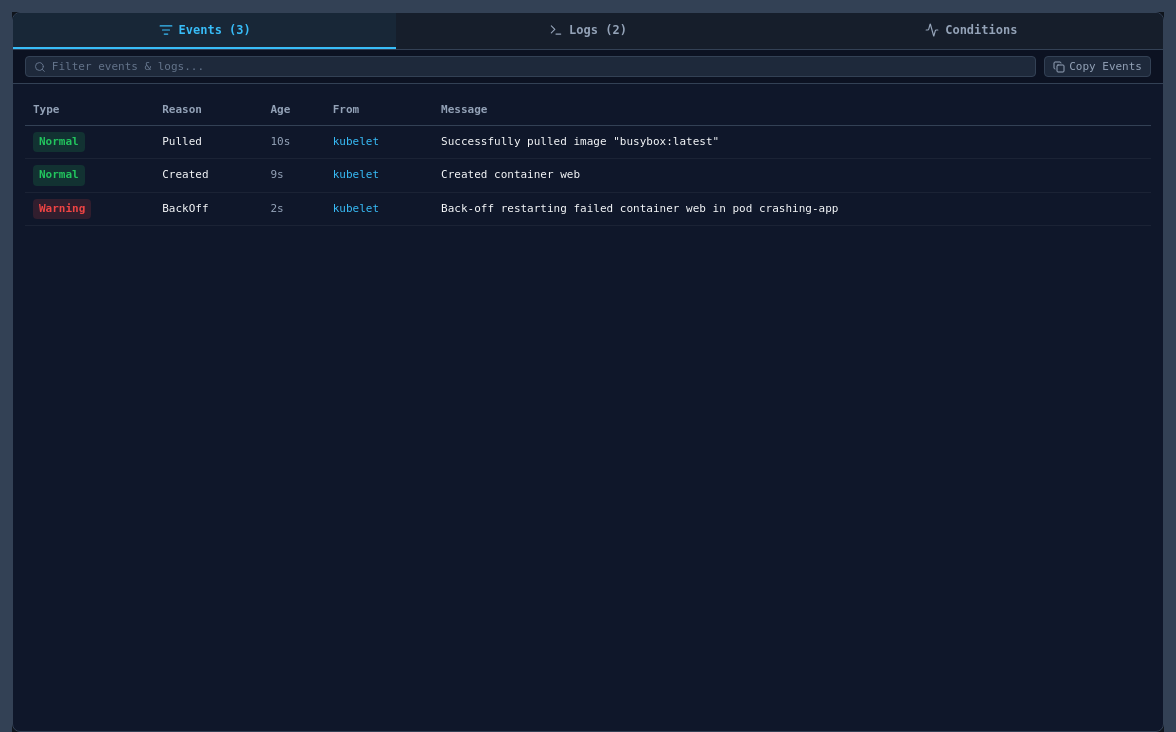
Test: DiagnosticLogPanel › allows copying all diagnostic events and clears with search icon
Click the button with test id "copy-all-events-btn". click: (1098, 66)
box: [1044, 56, 1151, 77]
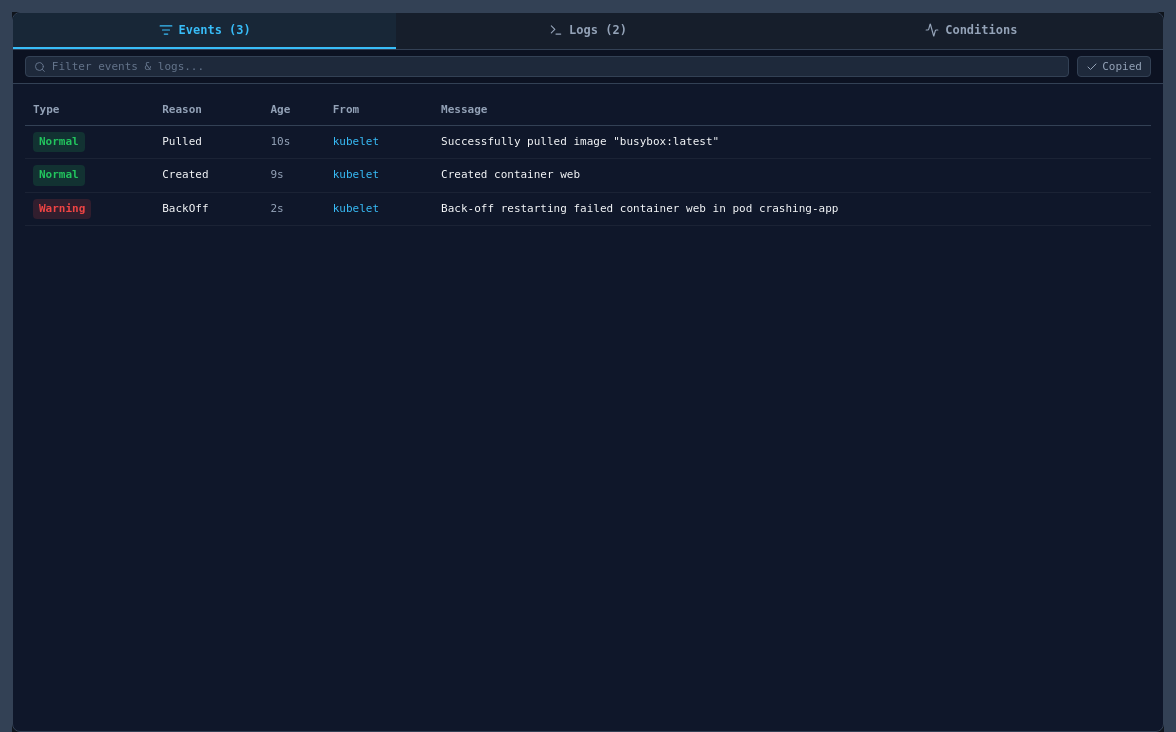
Type "test-filter" into the field with test id "diag-filter-input". click: (556, 66)
box: [52, 60, 1060, 73]
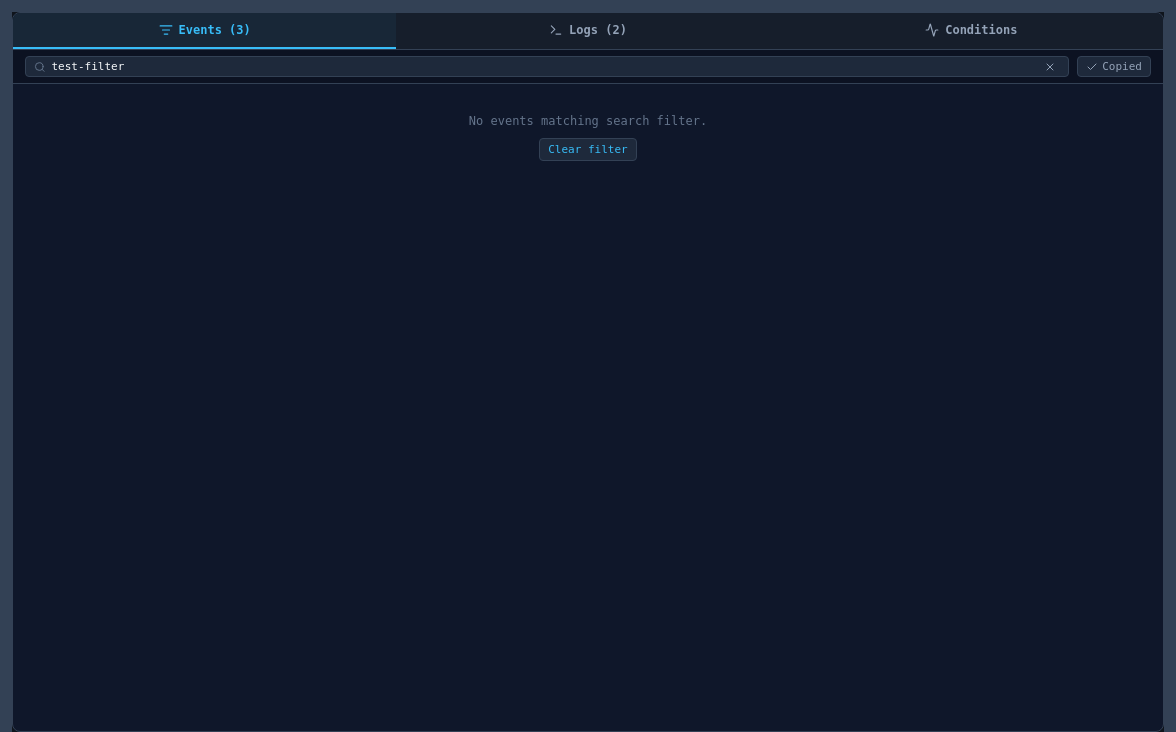
Click the button with test id "clear-diag-search-icon". click: (1050, 66)
box: [1040, 60, 1060, 72]
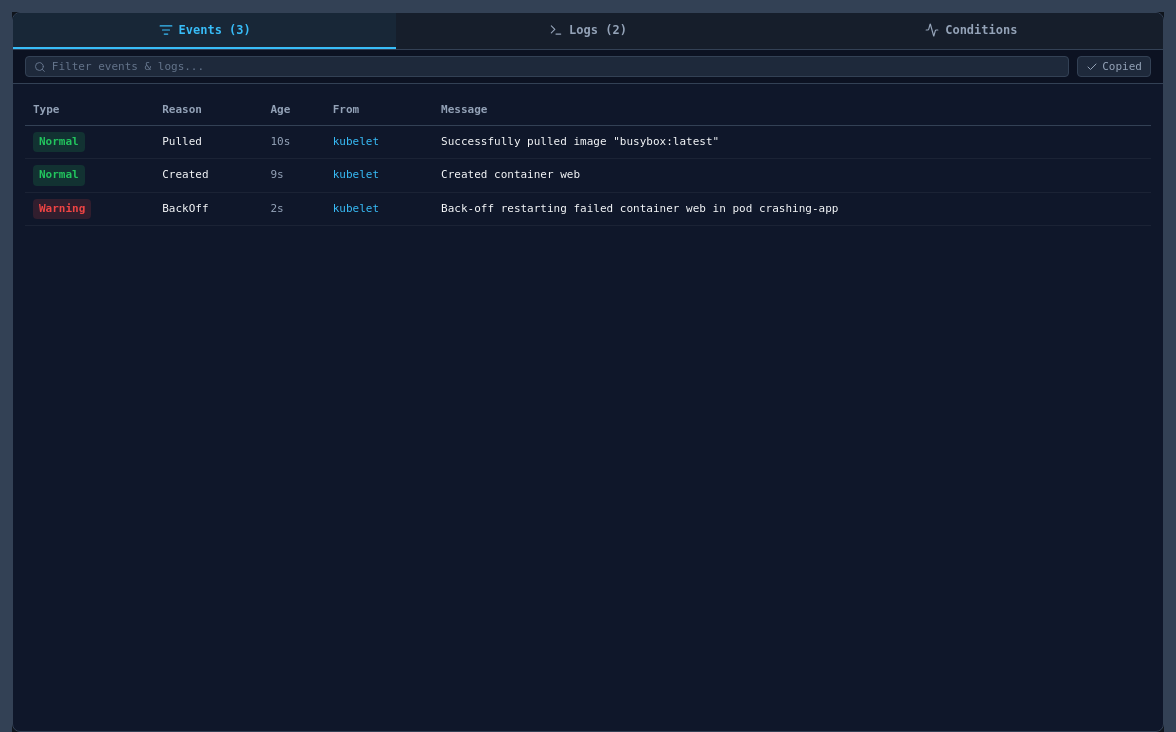
Expected: the field with test id "diag-filter-input" is empty, [52, 60, 1060, 73]
